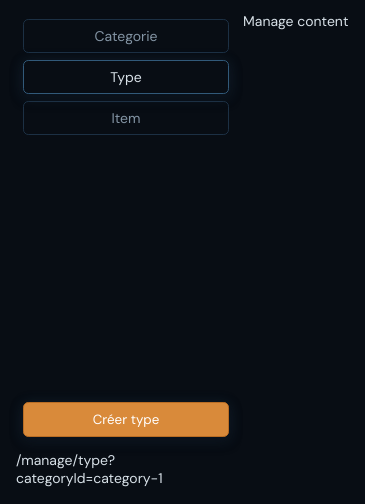
Test: LeftNavContentLayout › navigates to the type create route and keeps the query
Click the button "Créer type" at x=126, y=419, box [23,402,229,436]
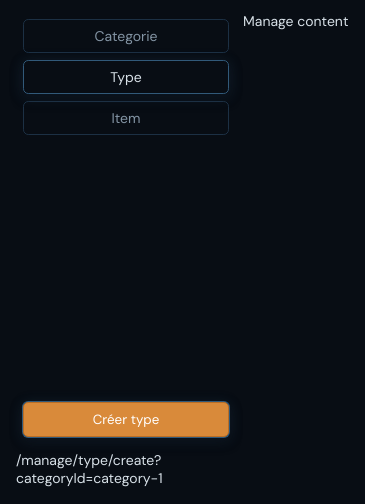
expect the text with test id "location" reads "/manage/type/create?categoryId=category-1": met, box [16,450,163,486]
